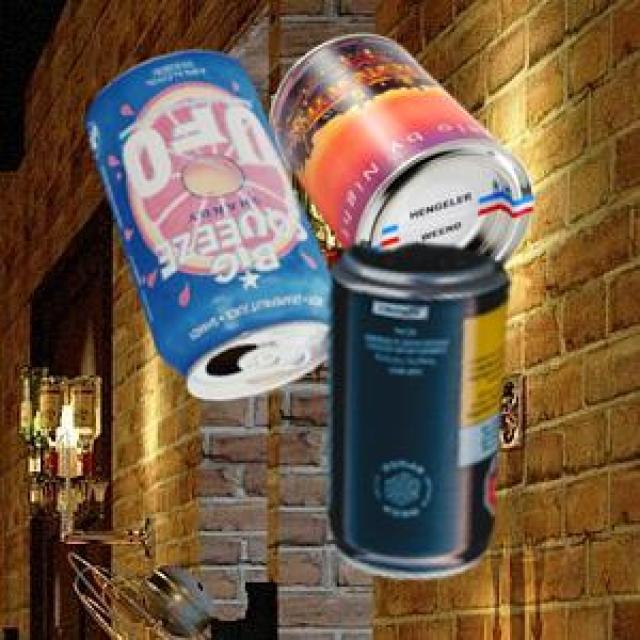Can: (84, 48, 330, 398), (325, 240, 507, 575), (268, 31, 530, 263)
